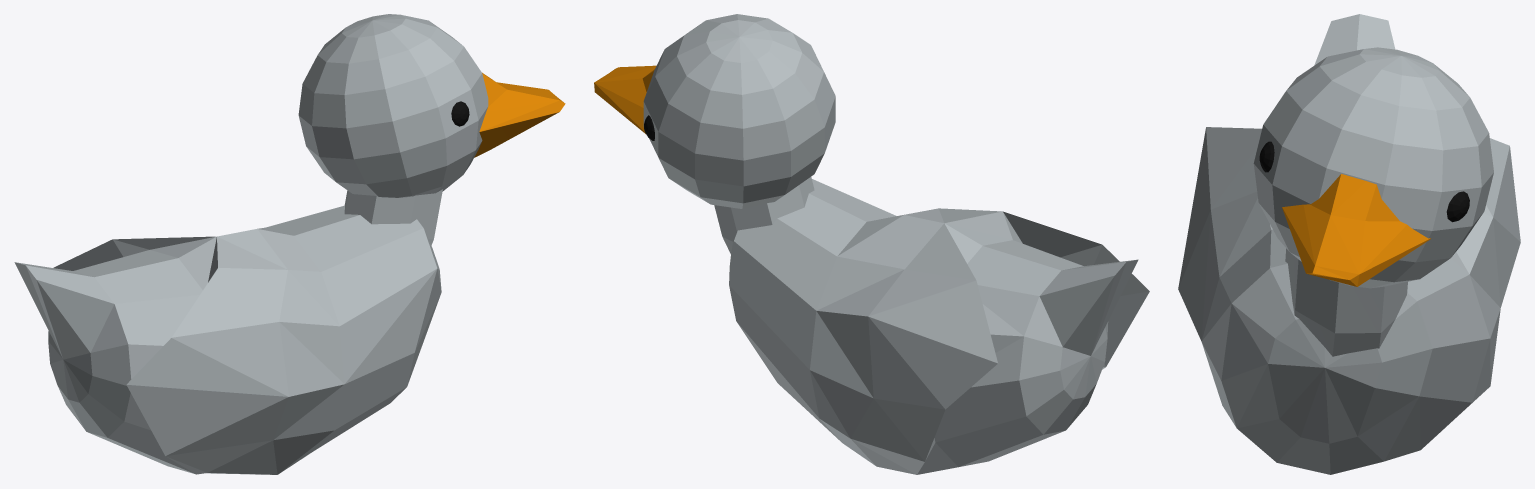
The model's file is Duck _.glb.
The picture shows the model from 3 angles, left to right: view 1: azimuth 30°, elevation 25°; view 2: azimuth 150°, elevation 25°; view 3: azimuth 270°, elevation 25°; orthographic projection. The views are drawn at different scales.
Parts seen in each view (by area): view 1: node_MeshObject1986359424-PolyPaper13; view 2: node_MeshObject1986359424-PolyPaper13; view 3: node_MeshObject1986359424-PolyPaper13.
Boxes of the visible parts, <box> form: node_MeshObject1986359424-PolyPaper13: <box>14,14,565,474</box>; node_MeshObject1986359424-PolyPaper13: <box>594,14,1149,474</box>; node_MeshObject1986359424-PolyPaper13: <box>1178,14,1520,474</box>.
Size of the model in its own units: 0.7289 by 0.5255 by 0.3269.
